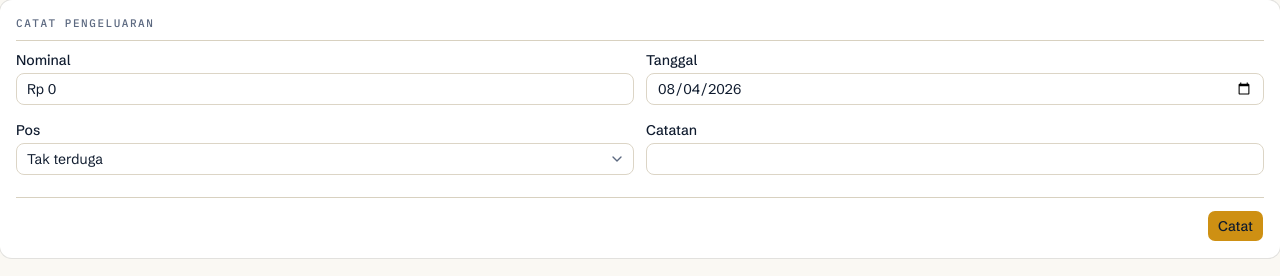
Test: the capture form, after an entry is recorded › clears the amount
Replace the text in the field labelled "Nominal" with "150000" at (325, 89), box [16, 73, 634, 105]
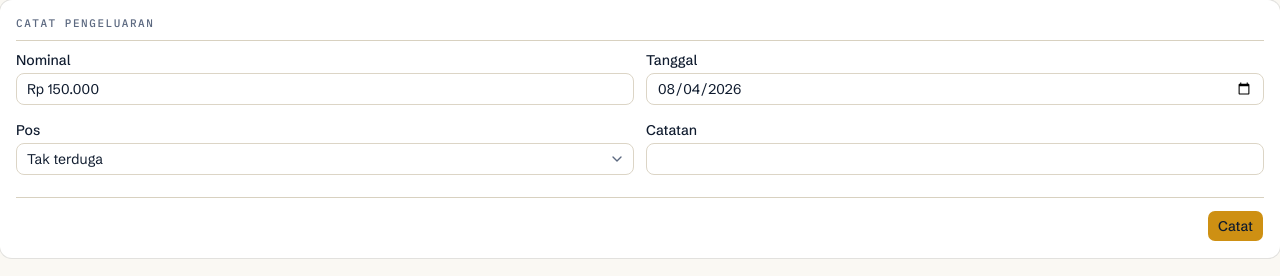
Submit the form
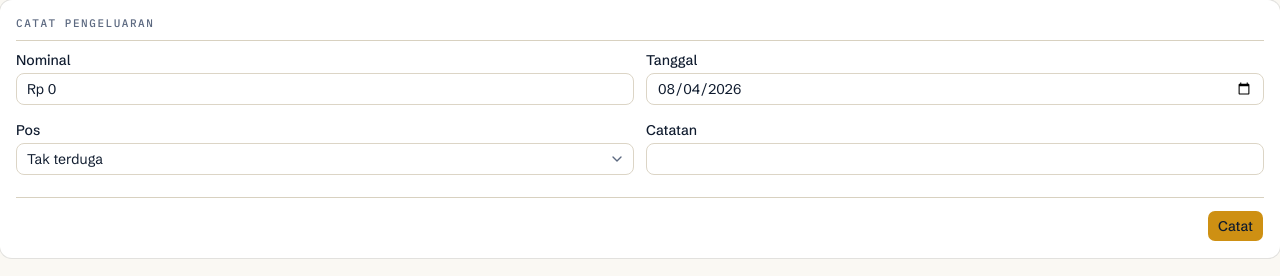
Expected: the element named "amount" holds "0", [16, 53, 634, 111]
Expected: the field labelled "Nominal" holds "Rp 0", [16, 73, 634, 105]
